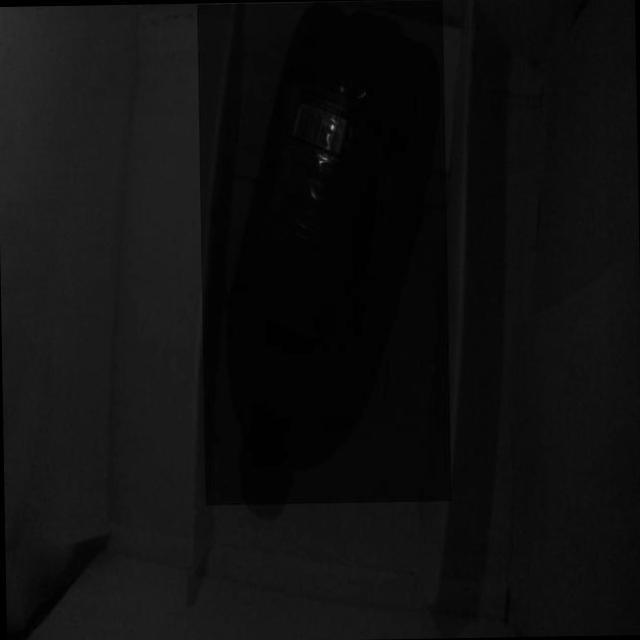good: (195, 0, 450, 504)
